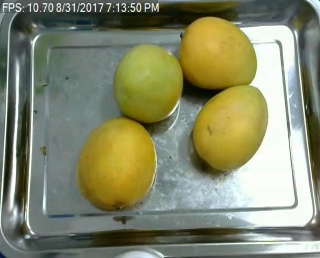Mango: (74, 113, 156, 208), (190, 84, 269, 171), (175, 14, 261, 87), (113, 42, 187, 123)
